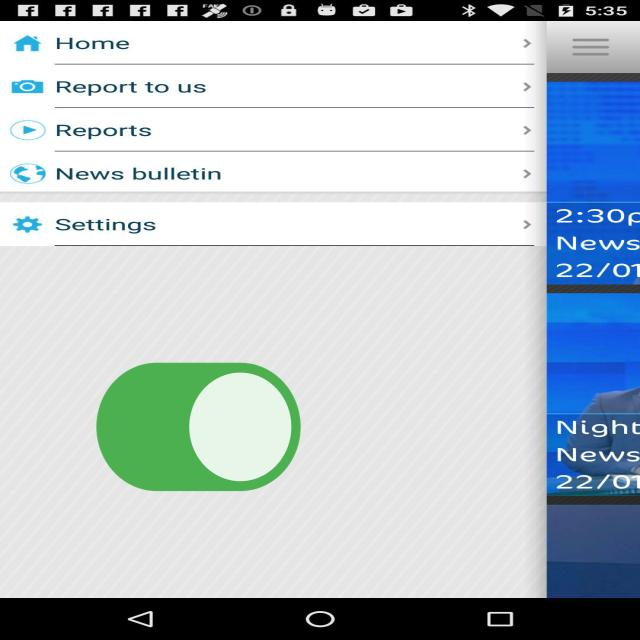social proof: (87, 314, 310, 550)
